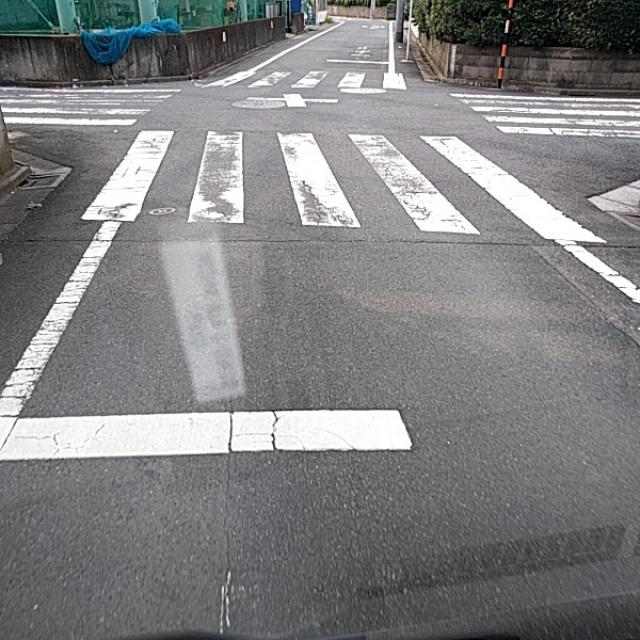pothole: (171, 388, 323, 449)
